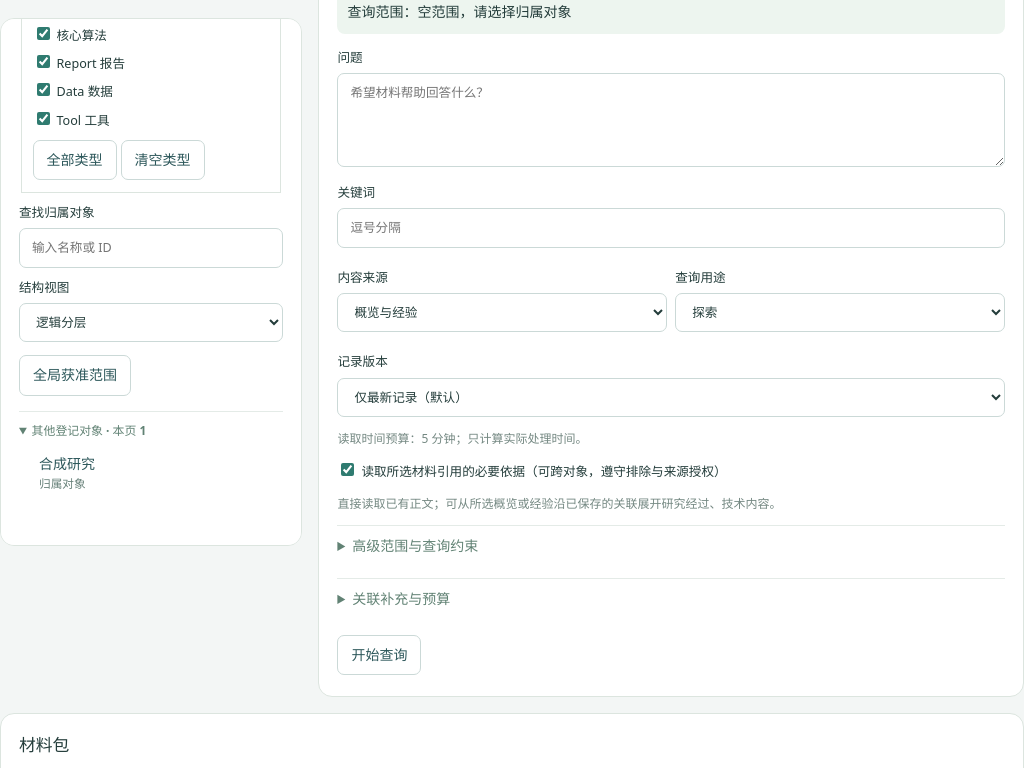
Test: 材料查询固定范围与回执 › 取消组装会取消同一固定查询并使迟到材料包失效
(page scrolled)
Click the button "合成研究 归属对象".
click(156, 473)  # box x1=32 y1=447 x2=279 y2=498
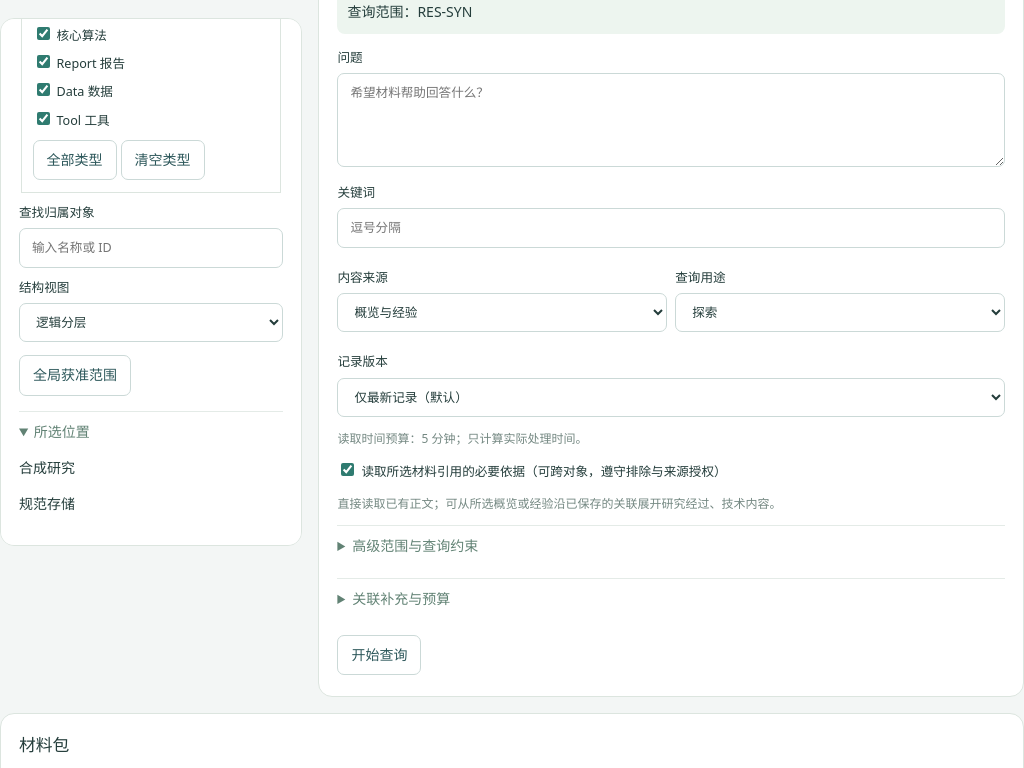
Type "压力" into the text box labelled "问题".
click(671, 120); type("压力")  # box x1=337 y1=73 x2=1005 y2=167
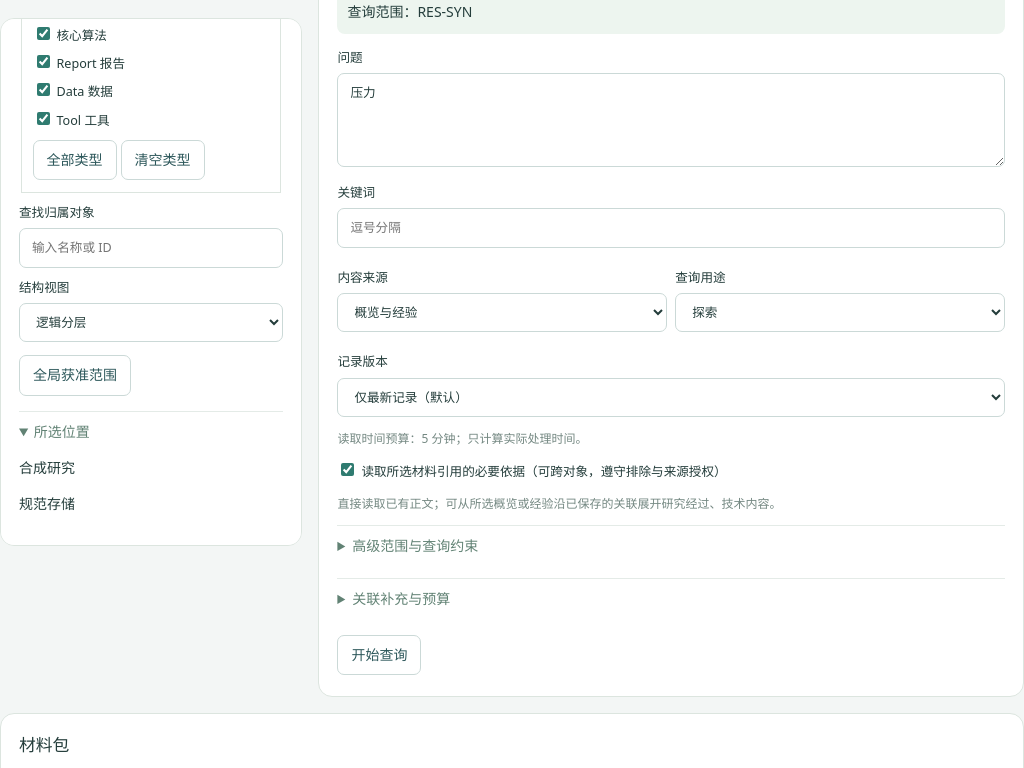
Click the button "开始查询".
click(379, 655)  # box x1=337 y1=635 x2=421 y2=675
(page scrolled)
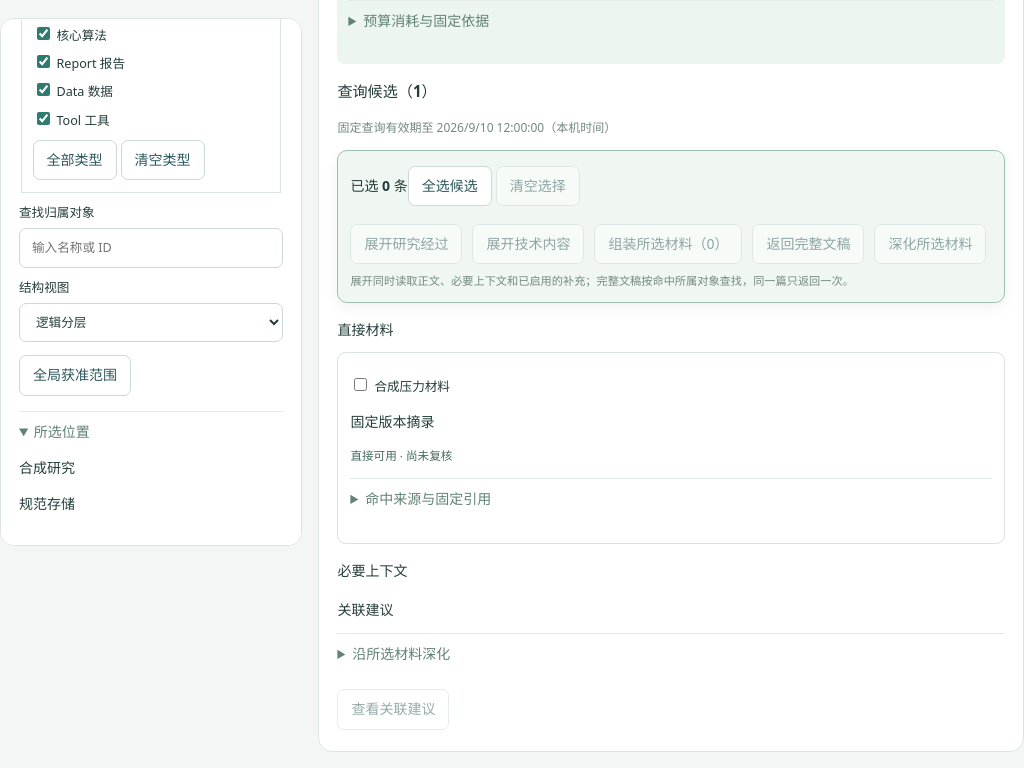
Expected: the text "合成压力材料" is shown, x1=354 y1=378 x2=450 y2=395
Click the checkbox labelled "合成压力材料".
click(361, 384)  # box x1=354 y1=378 x2=367 y2=391
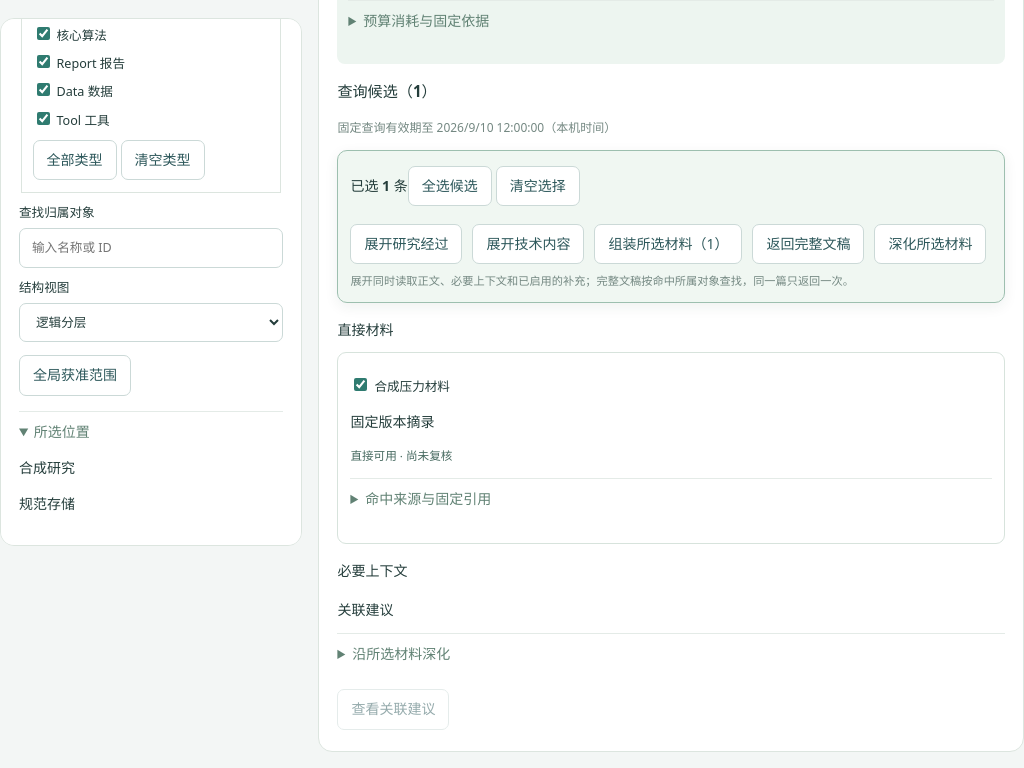
Click the button "组装所选材料（1）".
click(668, 244)  # box x1=594 y1=224 x2=742 y2=264
(page scrolled)
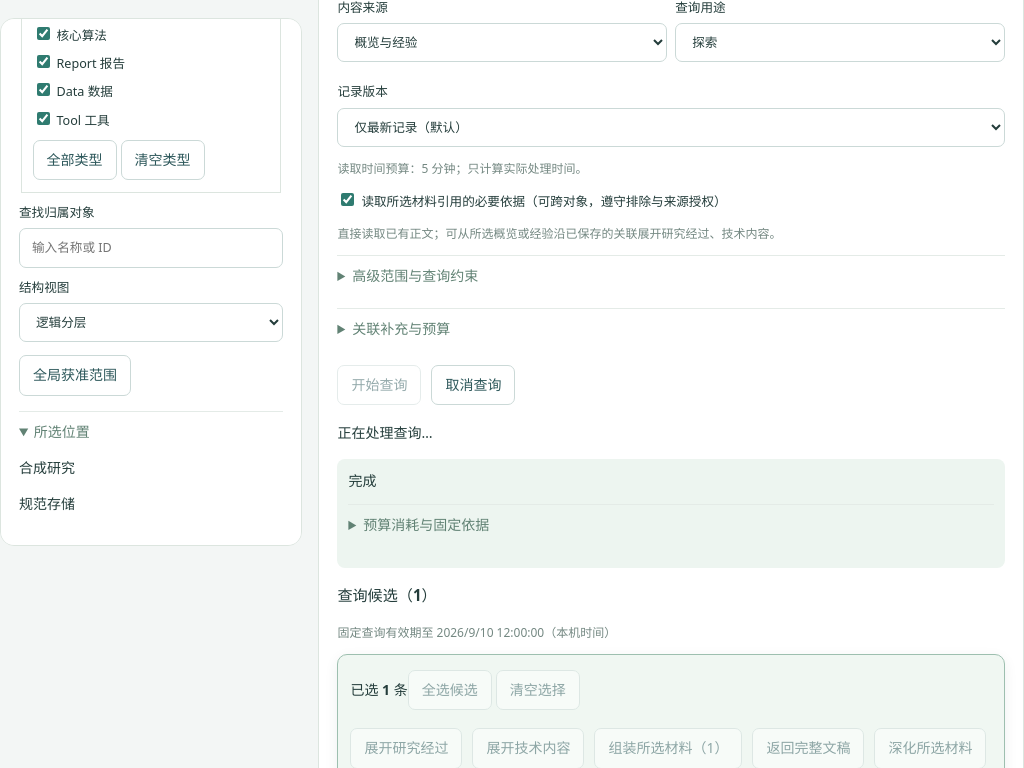
Click the button "取消查询".
click(473, 385)  # box x1=431 y1=365 x2=515 y2=405
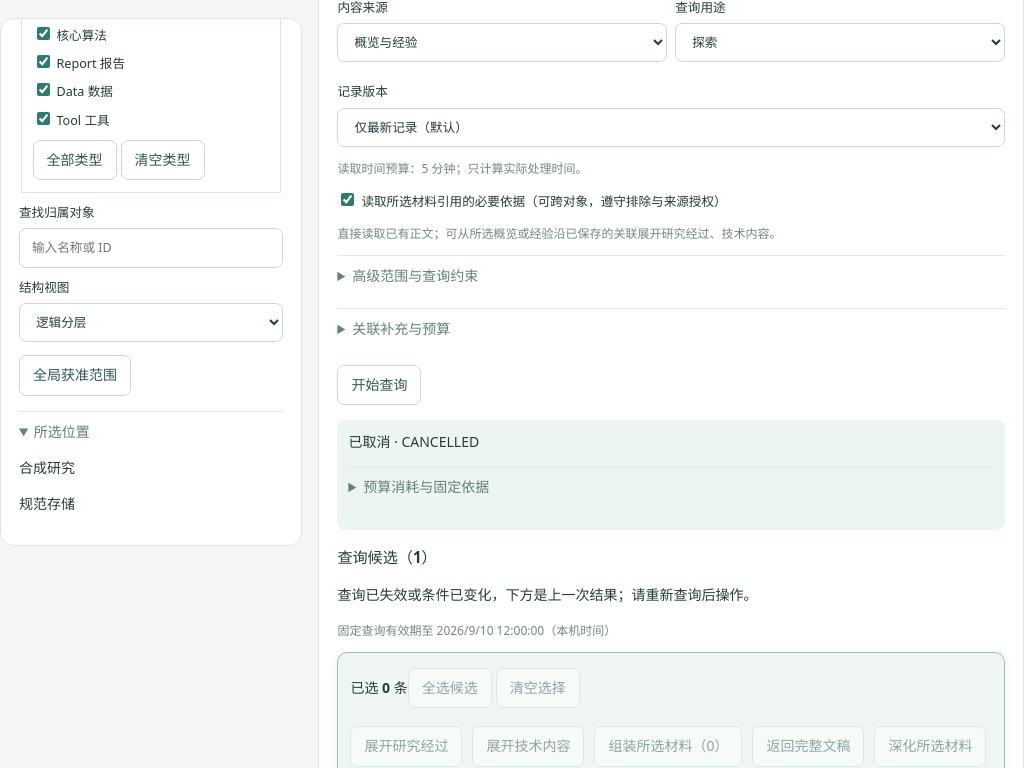
Expected: the element "材料包" is not shown
Expected: the button "组装所选材料（0）" is disabled, x1=594 y1=726 x2=742 y2=767
Expected: the text "已取消" is shown, x1=348 y1=432 x2=390 y2=451
